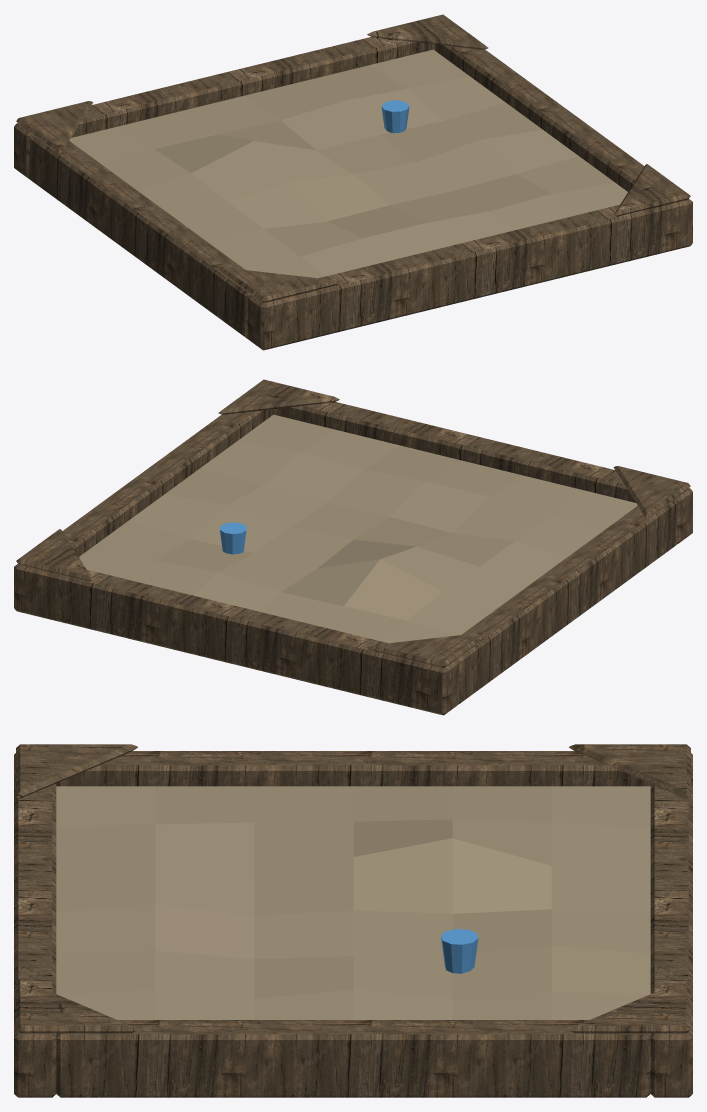
The model's file is sandbox.glb.
3 views of the same model, one above another, from view 1: azimuth 30°, elevation 25°; view 2: azimuth 150°, elevation 25°; view 3: azimuth 270°, elevation 25° (orthographic). The views are drawn at different scales.
Visible parts, largest first — view 1: sandbox; view 2: sandbox; view 3: sandbox.
Boxes of the visible parts, x1,y1,x2,y2 form: sandbox: (14, 14, 692, 350); sandbox: (14, 379, 692, 715); sandbox: (14, 744, 692, 1097).
Size of the model in its own units: 3.2 by 0.3953 by 3.2.
3 materials, 1 textured.
